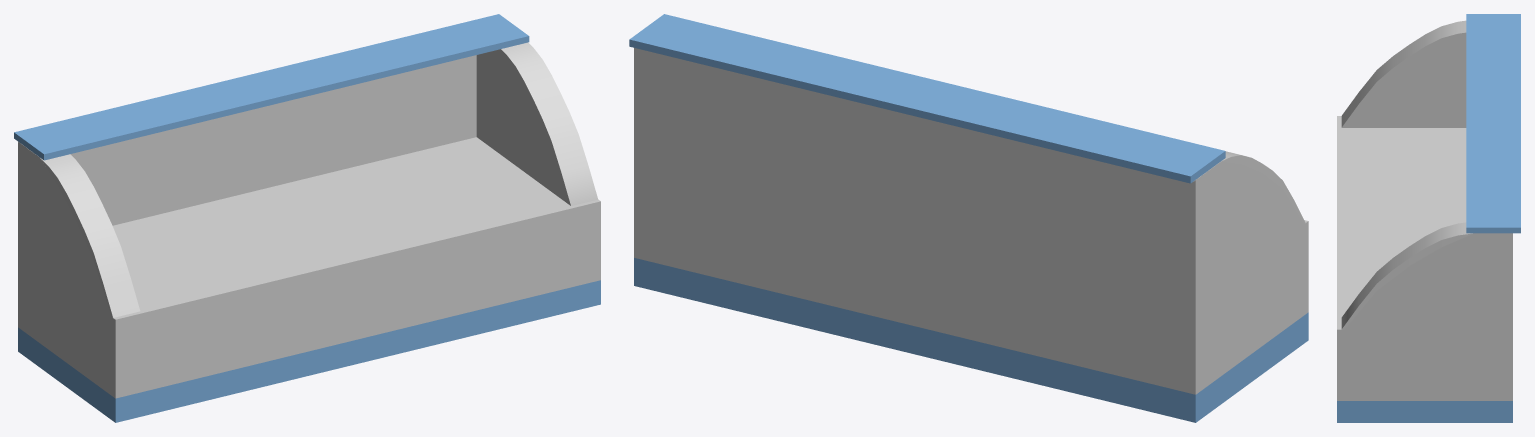
File: Vitrine.fbx
The picture shows the model from 3 angles, left to right: view 1: azimuth 30°, elevation 25°; view 2: azimuth 150°, elevation 25°; view 3: azimuth 270°, elevation 25°; orthographic projection. The views are drawn at different scales.
Visible parts, largest first — view 1: Cube.006; view 2: Cube.006; view 3: Cube.006.
Boxes of the visible parts, x1,y1,x2,y2 form: Cube.006: (14, 14, 600, 422); Cube.006: (629, 14, 1308, 422); Cube.006: (1337, 14, 1520, 422).
Size of the model in its own units: 300 by 128 by 109.
